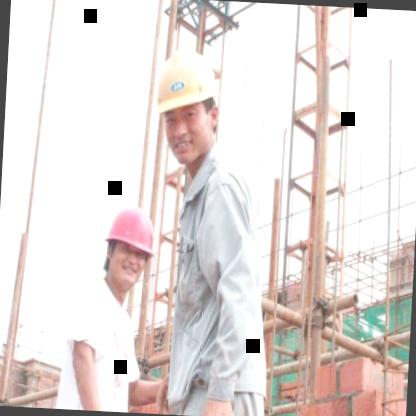helmet: (145, 22, 230, 184), (91, 194, 162, 302)
